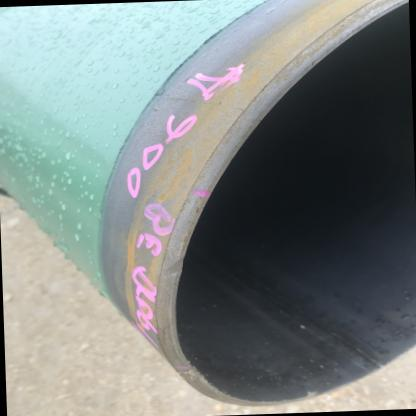Bevel: (160, 254, 184, 286), (176, 364, 200, 386)
